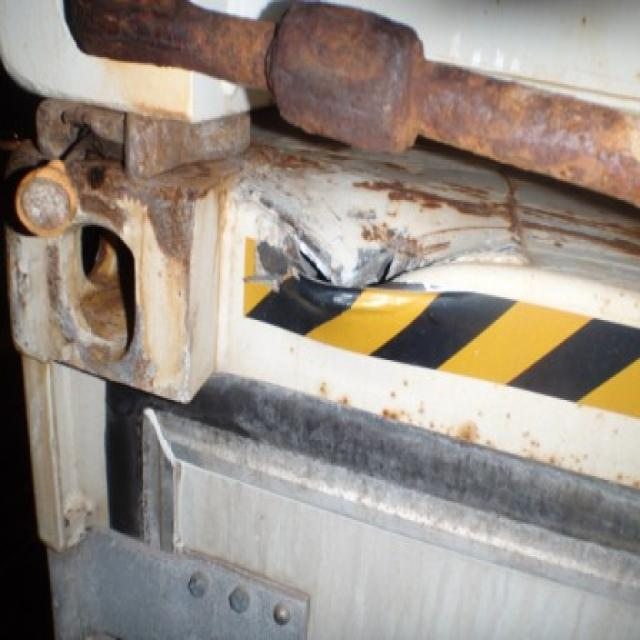hole: (253, 194, 445, 325)
